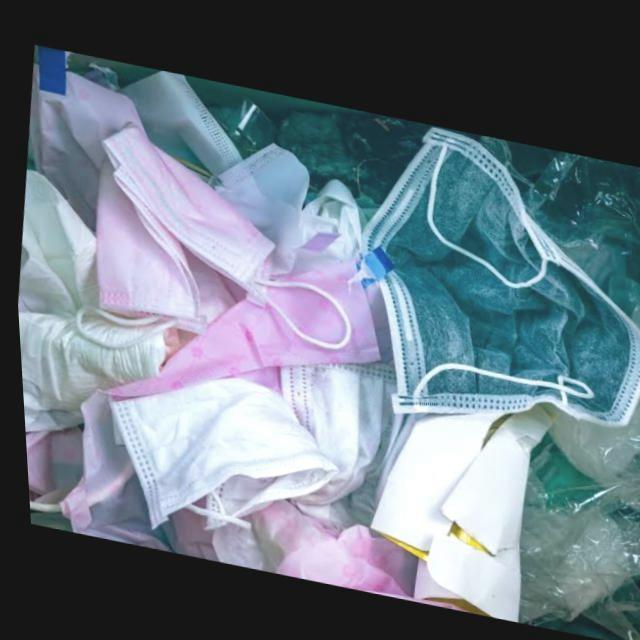cardboard: (362, 396, 546, 615)
